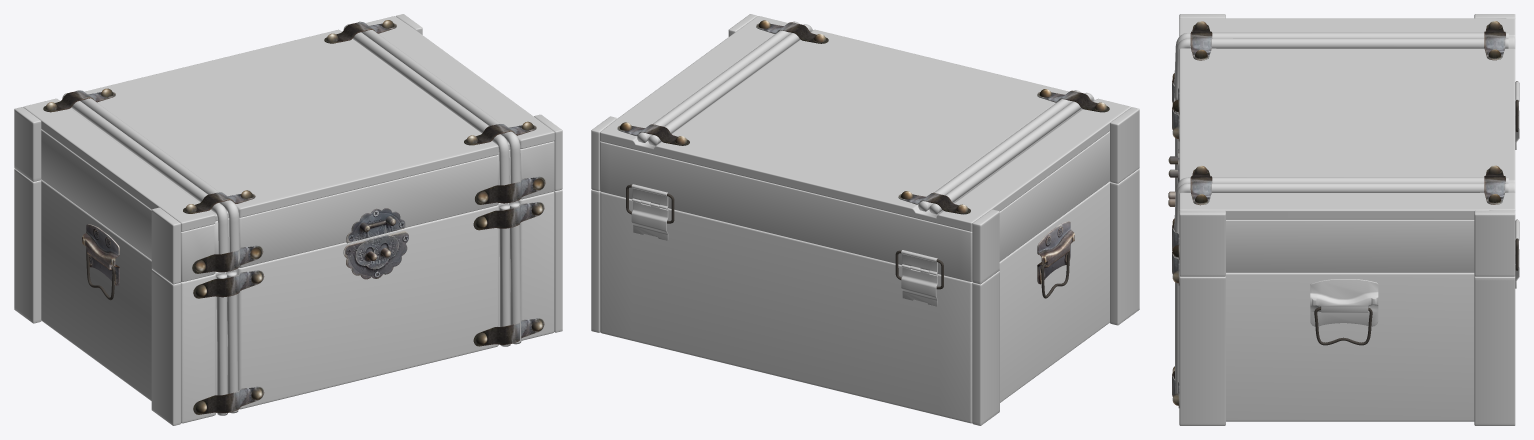
Rendered from Coffre1.fbx.
The picture shows the model from 3 angles, left to right: view 1: azimuth 30°, elevation 25°; view 2: azimuth 150°, elevation 25°; view 3: azimuth 270°, elevation 25°; orthographic projection. The views are drawn at different scales.
Visible parts, largest first — view 1: Lid, Box; view 2: Lid, Box; view 3: Lid, Box.
Boxes of the visible parts, <box> form: Lid: <box>14,14,562,284</box>; Box: <box>14,168,562,425</box>; Lid: <box>591,14,1139,284</box>; Box: <box>591,168,1139,425</box>; Lid: <box>1168,14,1519,276</box>; Box: <box>1168,102,1519,425</box>.
Bounding box in the file's own units: 32.21 × 16.42 × 23.85.
Materials: 3 (1 with a texture image).
